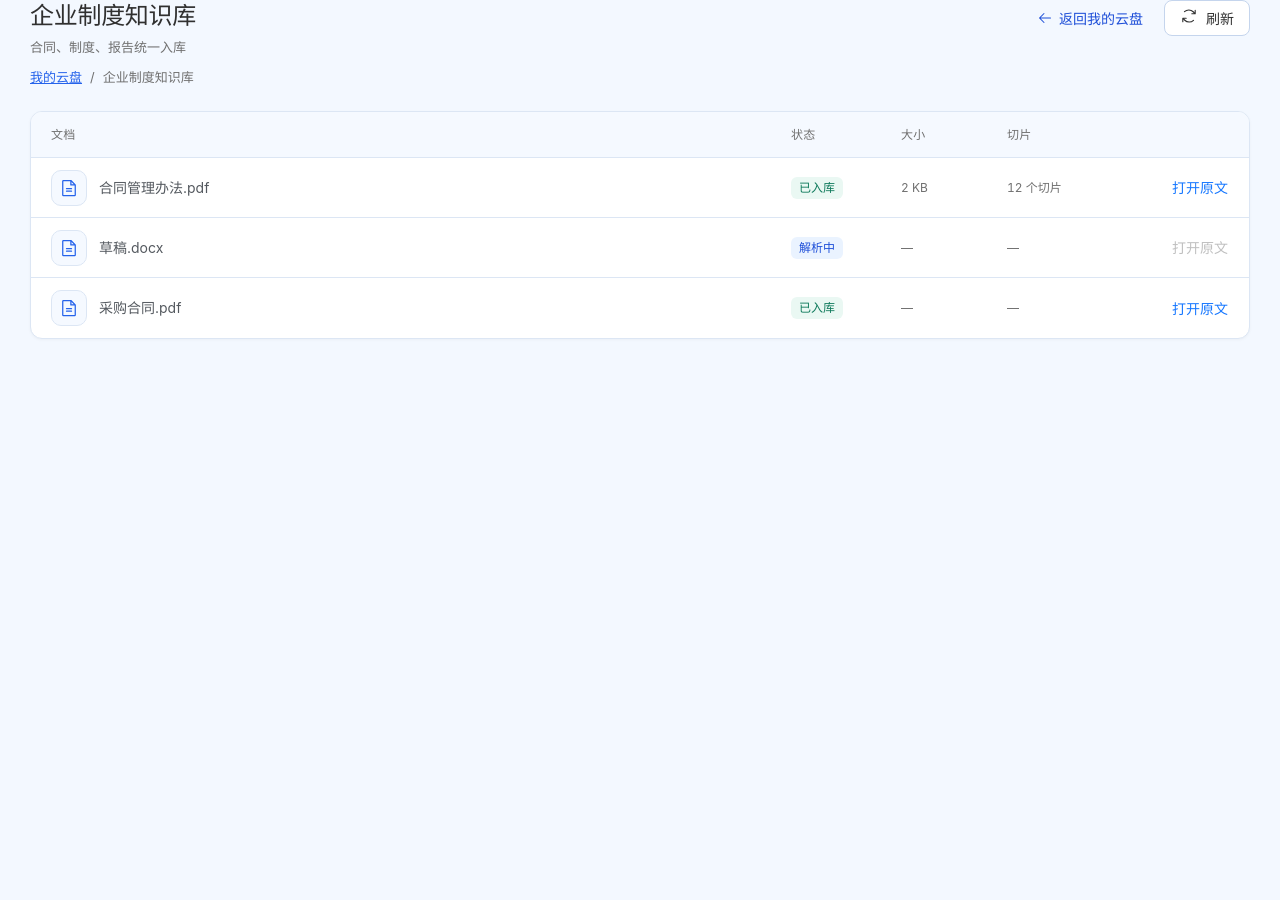
CloudKnowledgeDetailPage › falls back to Markdown inside the same dialog when the original is not a PDF
The width and height of the screenshot is (1280, 900).
Click the button with aria-label "打开 采购合同.pdf 原文": (1200, 308) x1=1171 y1=290 x2=1229 y2=326
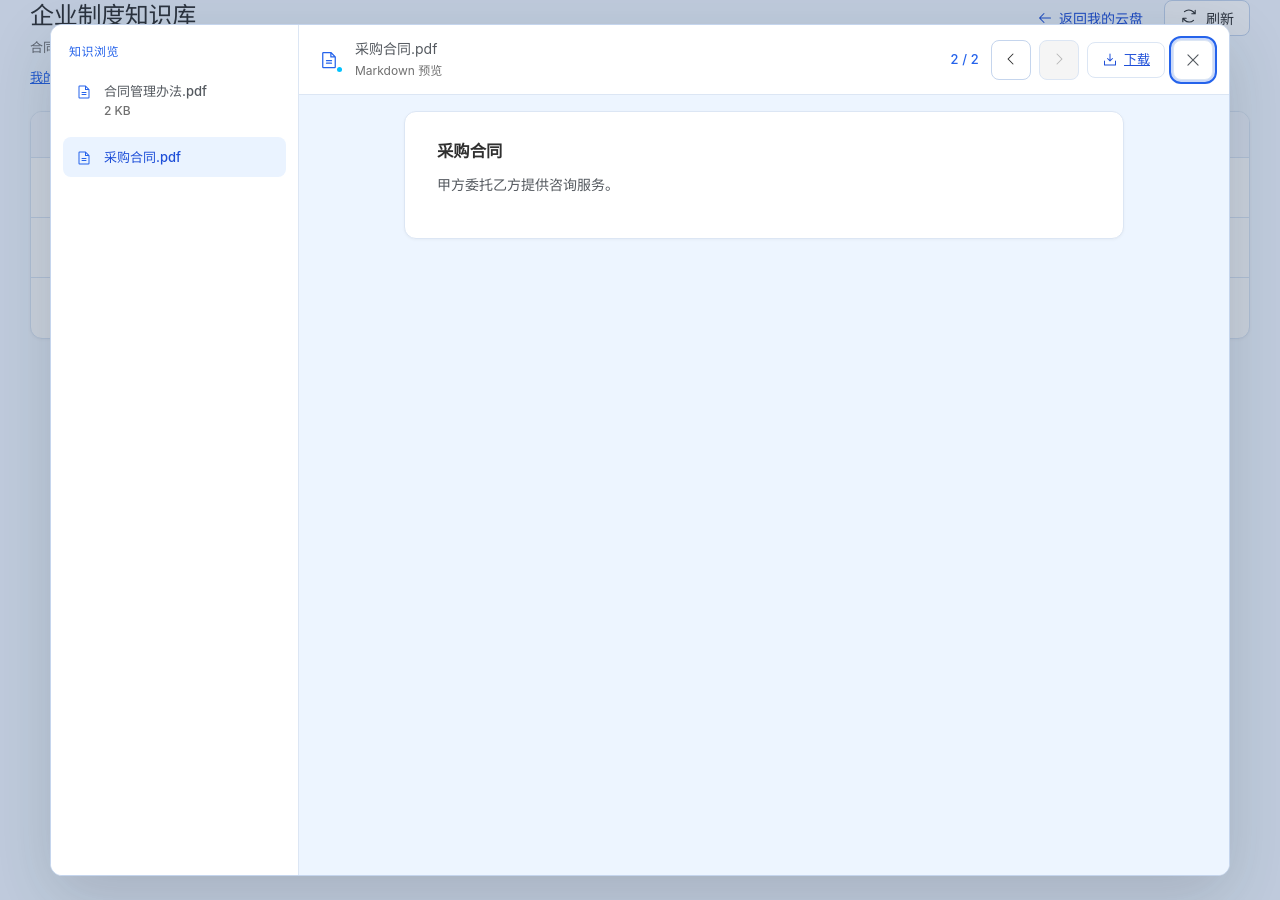
Check: the element named "采购合同.pdf Markdown 预览" shows "甲方委托乙方提供咨询服务。", box x1=437 y1=176 x2=619 y2=193
